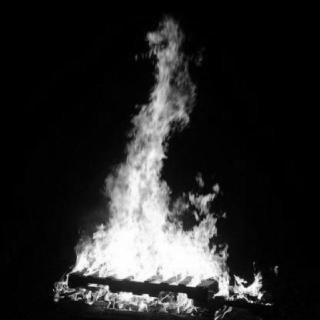Fire: (50, 181, 273, 313), (103, 17, 194, 181)
